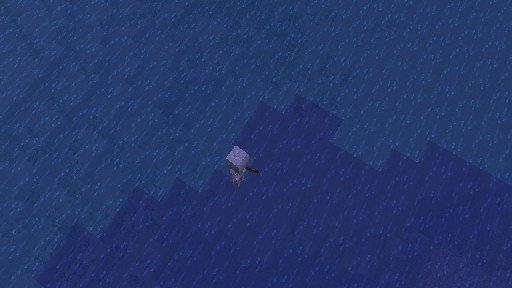skeleton: (225, 144, 259, 187)
